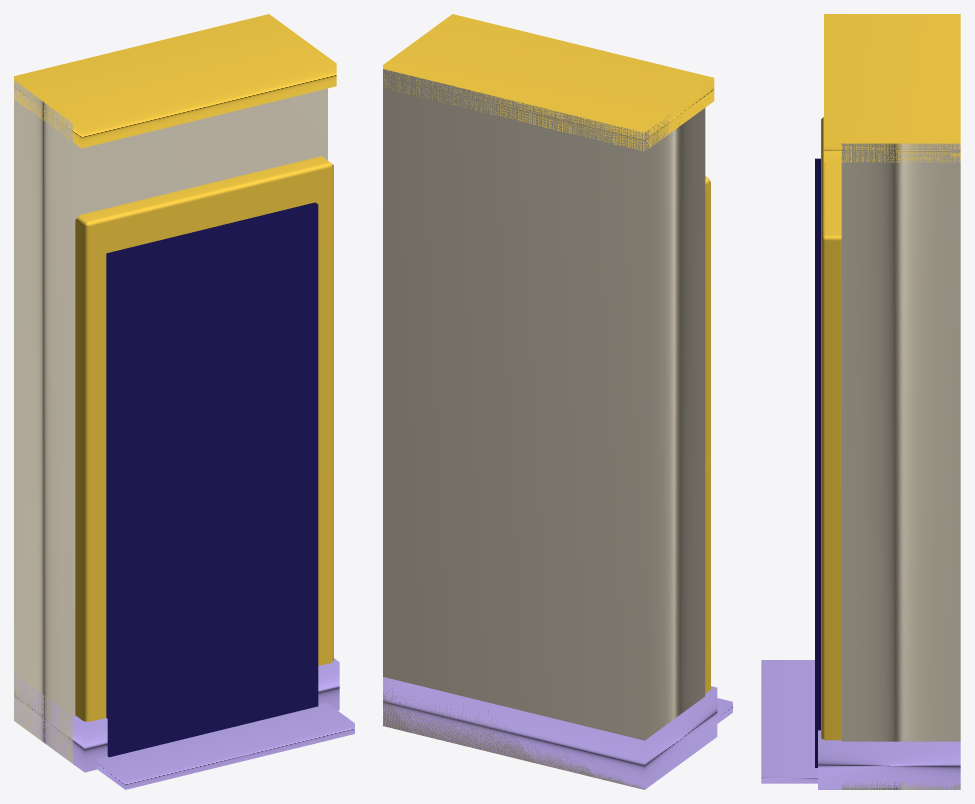
Rendered from wall_door.glb.
3 renders of one model, left to right at view 1: azimuth 30°, elevation 25°; view 2: azimuth 150°, elevation 25°; view 3: azimuth 270°, elevation 25°, orthographic. The views are drawn at different scales.
Parts seen in each view (by area): view 1: Wall; view 2: Wall; view 3: Wall.
Part boxes in pixels (left/top/right/bottom): Wall: left=14, top=14, right=354, bottom=789; Wall: left=383, top=14, right=732, bottom=789; Wall: left=761, top=14, right=960, bottom=789.
Bounding box in the file's own units: 1 × 2.41 × 0.67.
